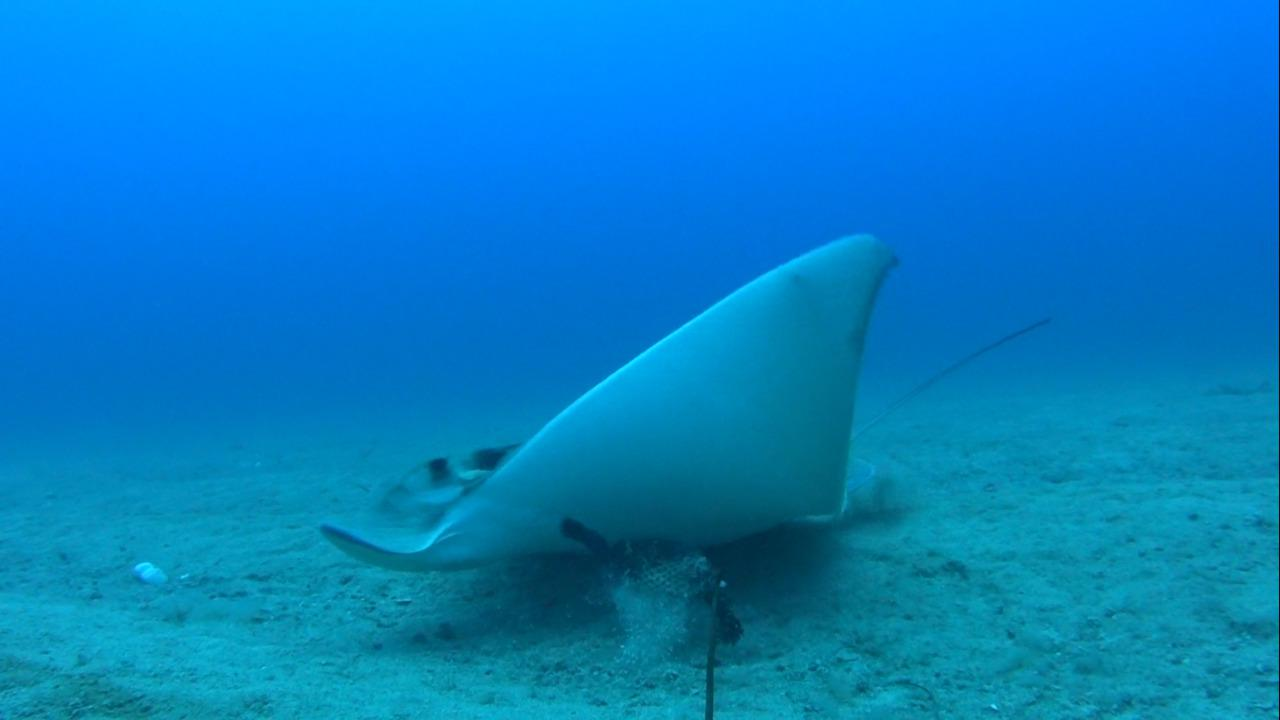myliobatis: (308, 228, 1064, 639)
